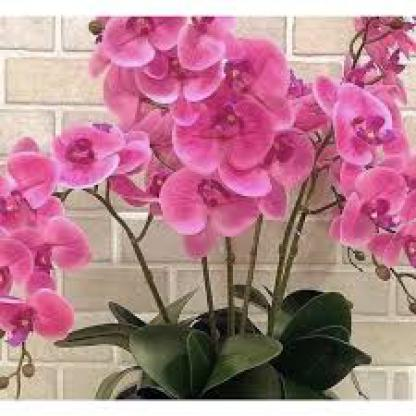ANGGREK: (6, 18, 406, 317)
